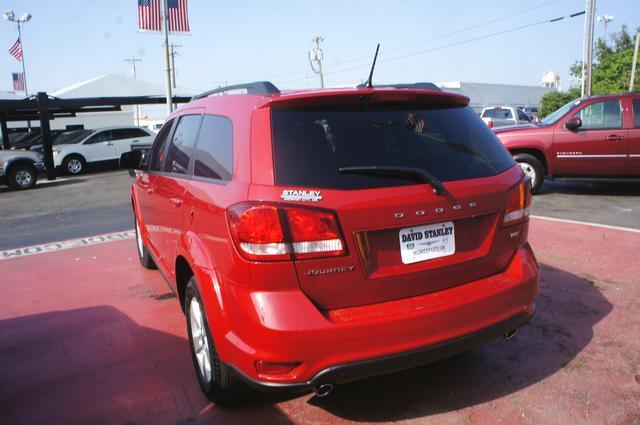dodge: (391, 197, 483, 225)
